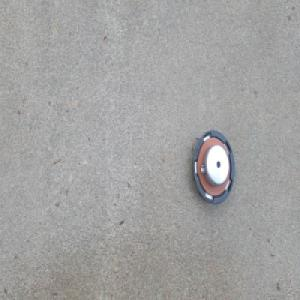FuelCap: (189, 129, 235, 208)
